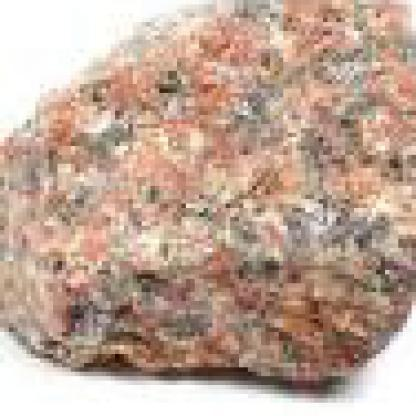Metamorphic_Marble: (4, 0, 416, 412)
